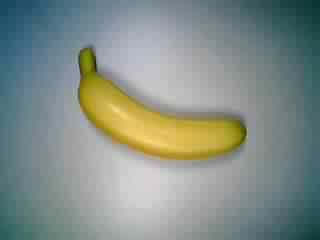banana: (72, 45, 252, 164)
